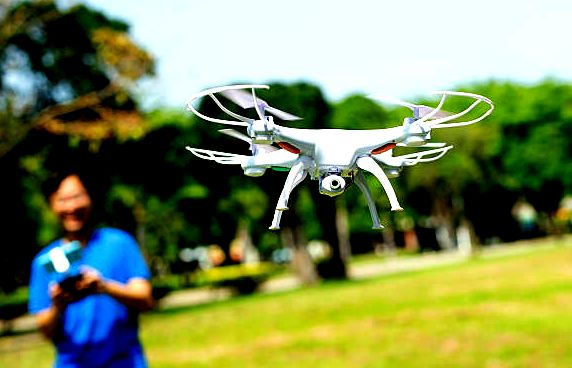Drone: (177, 76, 496, 239)
